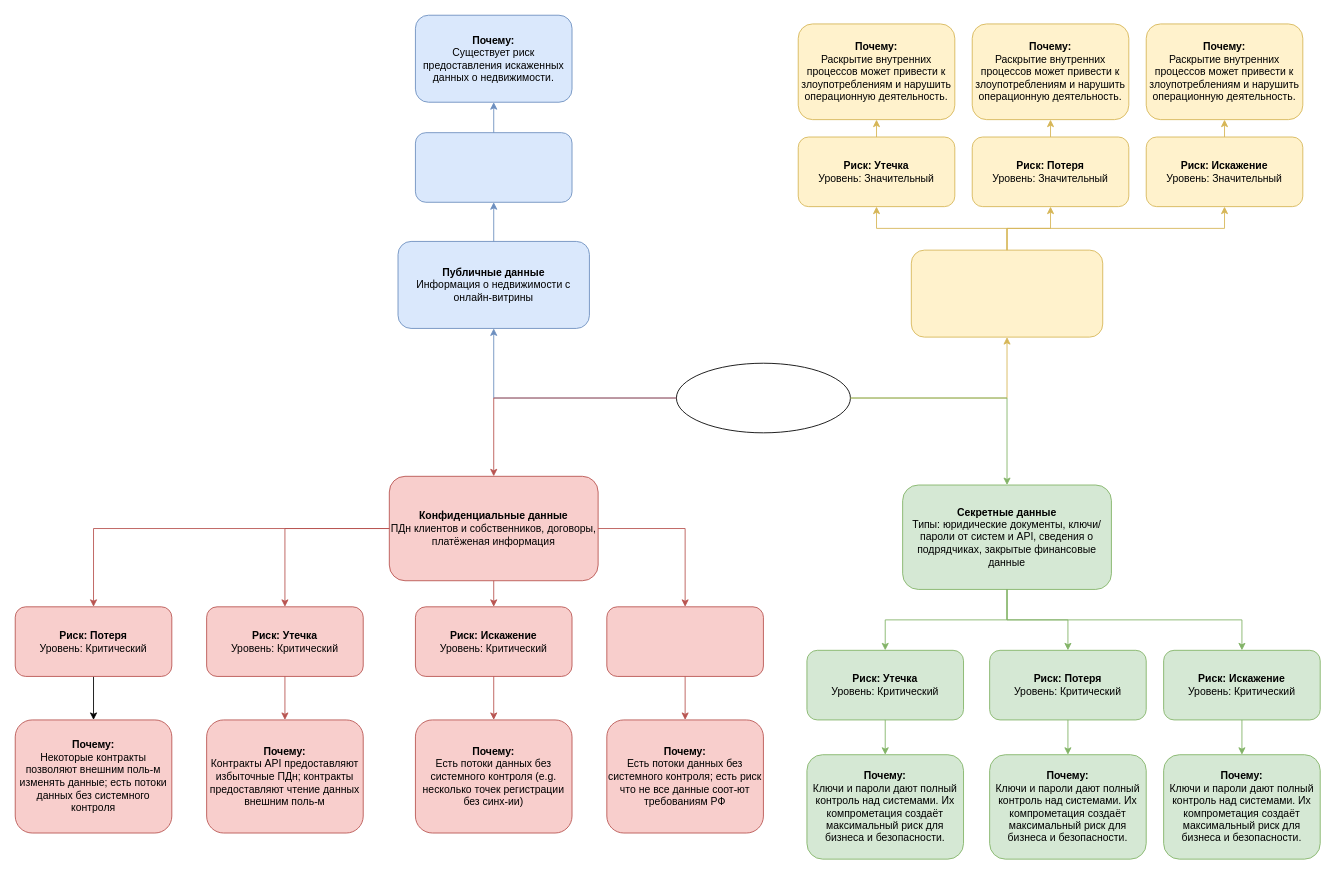
The diagram is 1335 pixels wide and 874 high, and some of its shapes have lost their labels. Here are the shapes that lost their labels. From the top down, the centre of each, then its label:
At (493,167): "Риск: Искажение Уровень: Незначительный".
At (1006,293): "Внутренние данные Отчеты, BI, артефакты операционной деятельности".
At (763,397): "Безопасность данных".
At (684,641): "Риск: Некачественные данные Уровень: Значительный".
